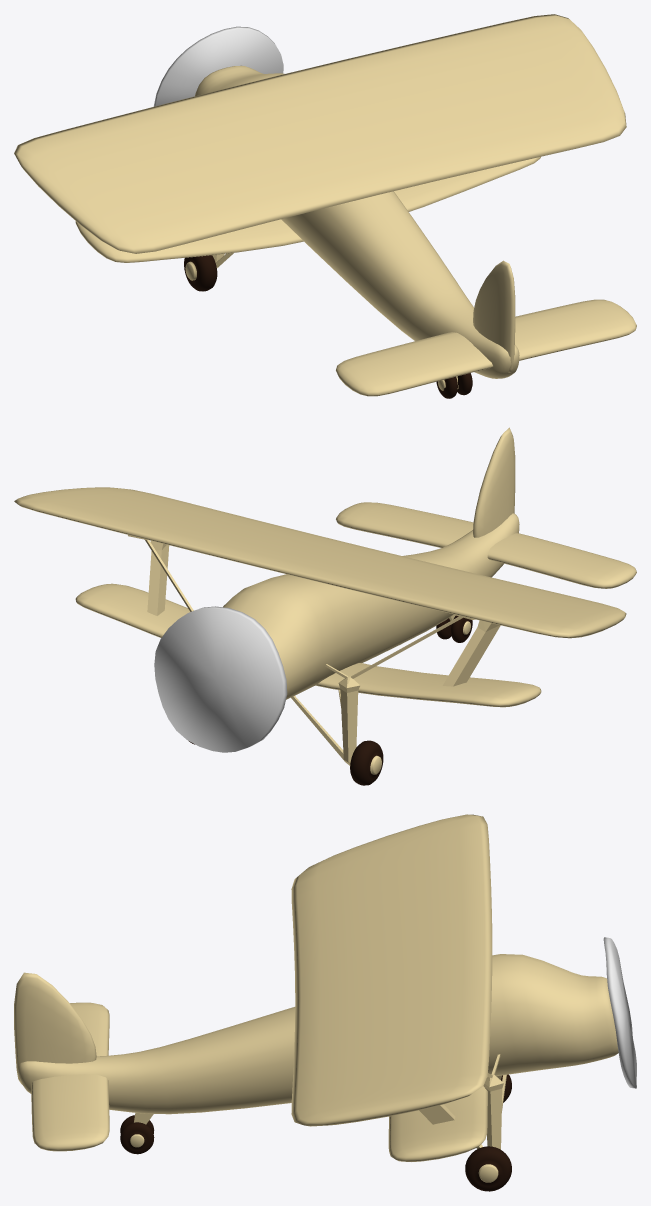
Rendered from biplane.dae.
The picture shows the model from 3 angles, top to bottom: view 1: azimuth 30°, elevation 25°; view 2: azimuth 150°, elevation 25°; view 3: azimuth 270°, elevation 25°; orthographic projection. The views are drawn at different scales.
Visible parts, largest first — view 1: Wings, Chassis, Propeller, Wheels; view 2: Wings, Chassis, Propeller, Support, Wheels; view 3: Wings, Chassis, Wheels, Propeller, Support.
Part boxes in pixels (x1,y1,x2,y2): Wings: [14, 14, 636, 396]; Chassis: [195, 65, 519, 378]; Propeller: [153, 26, 283, 106]; Wheels: [184, 255, 472, 398]; Wings: [14, 427, 636, 707]; Chassis: [223, 513, 519, 699]; Propeller: [154, 606, 287, 752]; Support: [128, 535, 500, 765]; Wheels: [189, 615, 472, 785]; Wings: [14, 814, 492, 1161]; Chassis: [18, 954, 618, 1114]; Wheels: [120, 1074, 511, 1191]; Propeller: [603, 937, 636, 1088]; Support: [134, 1054, 506, 1149].
Bounding box in the file's own units: 8.74 × 8.2 × 2.96.
